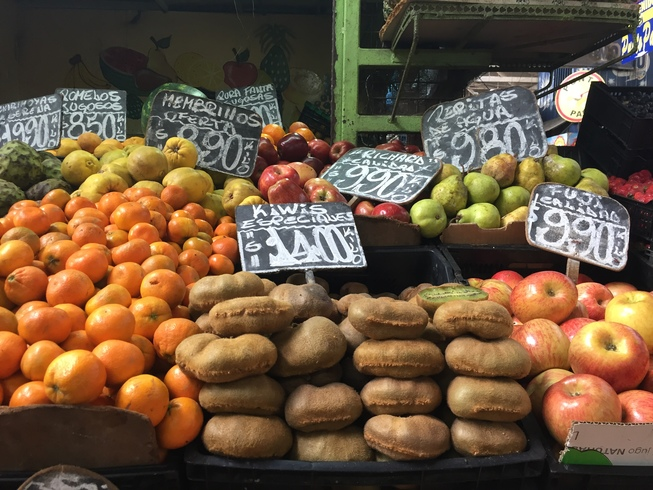precio: (142, 92, 273, 184), (422, 91, 553, 173), (232, 197, 370, 273), (522, 178, 631, 270), (326, 143, 438, 212), (1, 89, 65, 161), (53, 87, 129, 146), (221, 82, 288, 137)
